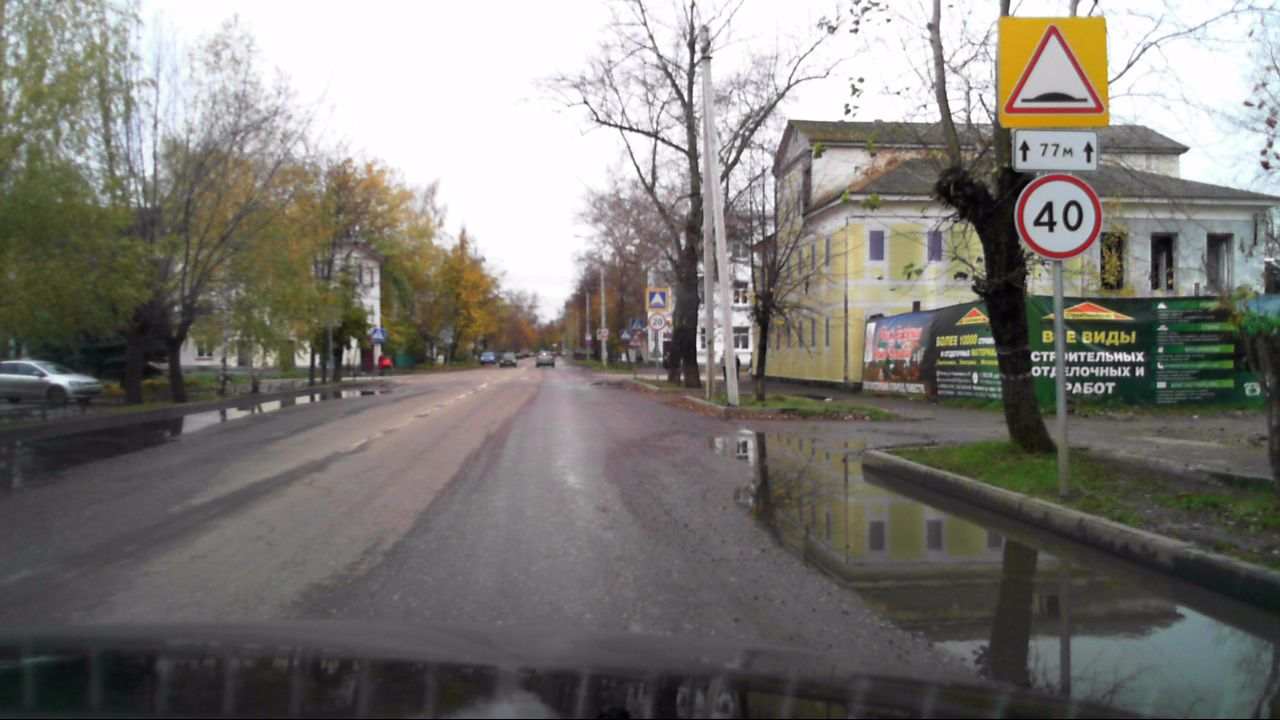speed_warning_40: (1012, 172, 1104, 262)
